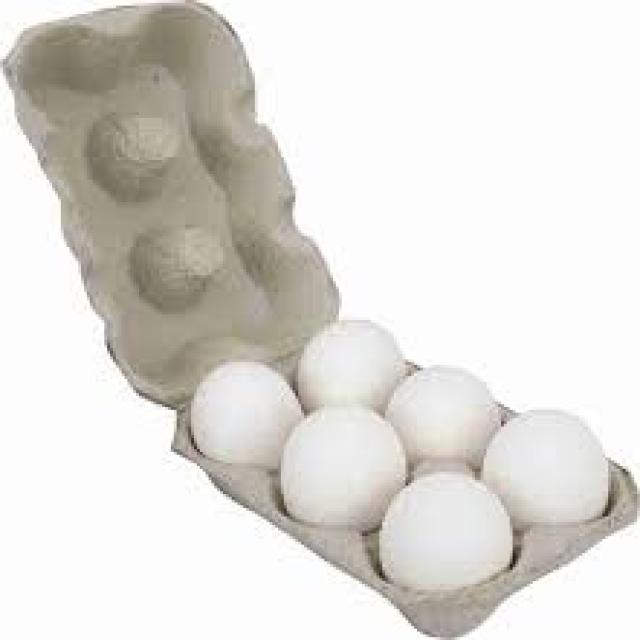White Egg: (370, 460, 512, 612), (474, 400, 620, 537), (280, 402, 400, 532), (190, 349, 305, 472), (388, 368, 514, 466), (289, 310, 402, 415)
